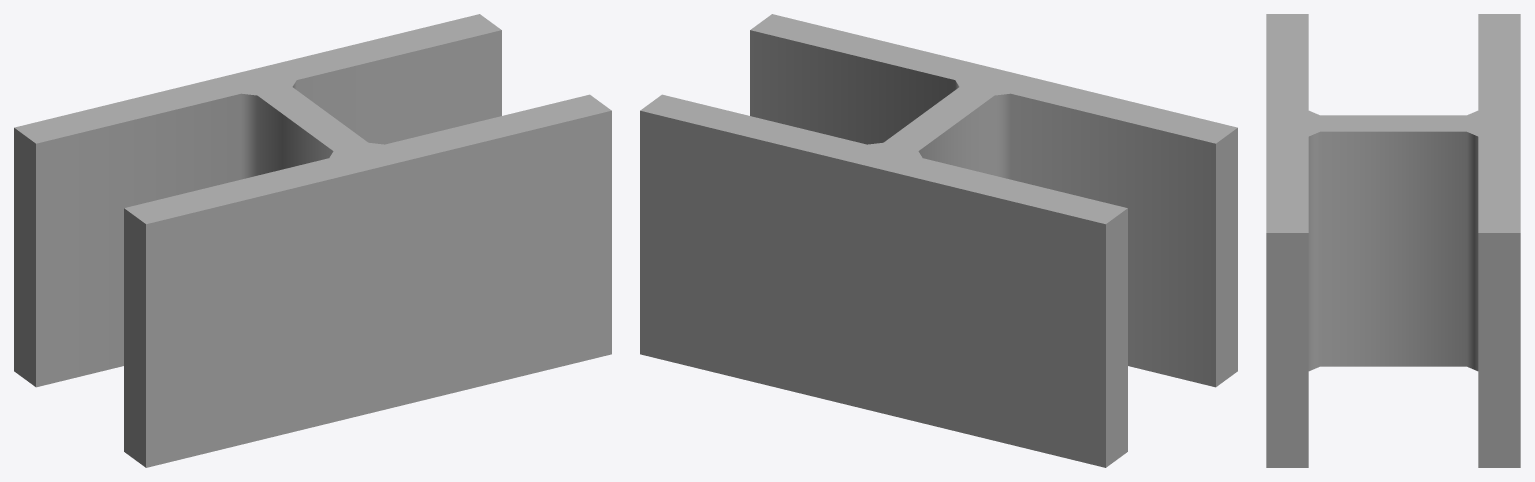
3 views of the same model, side by side, from view 1: azimuth 30°, elevation 25°; view 2: azimuth 150°, elevation 25°; view 3: azimuth 270°, elevation 25° (orthographic). The views are drawn at different scales.
Parts seen in each view (by area): view 1: CMU-Hblock; view 2: CMU-Hblock; view 3: CMU-Hblock.
Boxes of the visible parts, x1,y1,x2,y2 form: CMU-Hblock: [14, 14, 611, 467]; CMU-Hblock: [640, 14, 1237, 467]; CMU-Hblock: [1266, 14, 1520, 467].
Size of what is drawn, in the model's own units: 0.3999 by 0.2 by 0.1964.
1 material, 1 textured.
